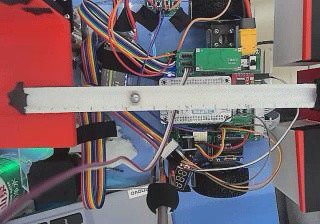ironball: (129, 93, 139, 104)
